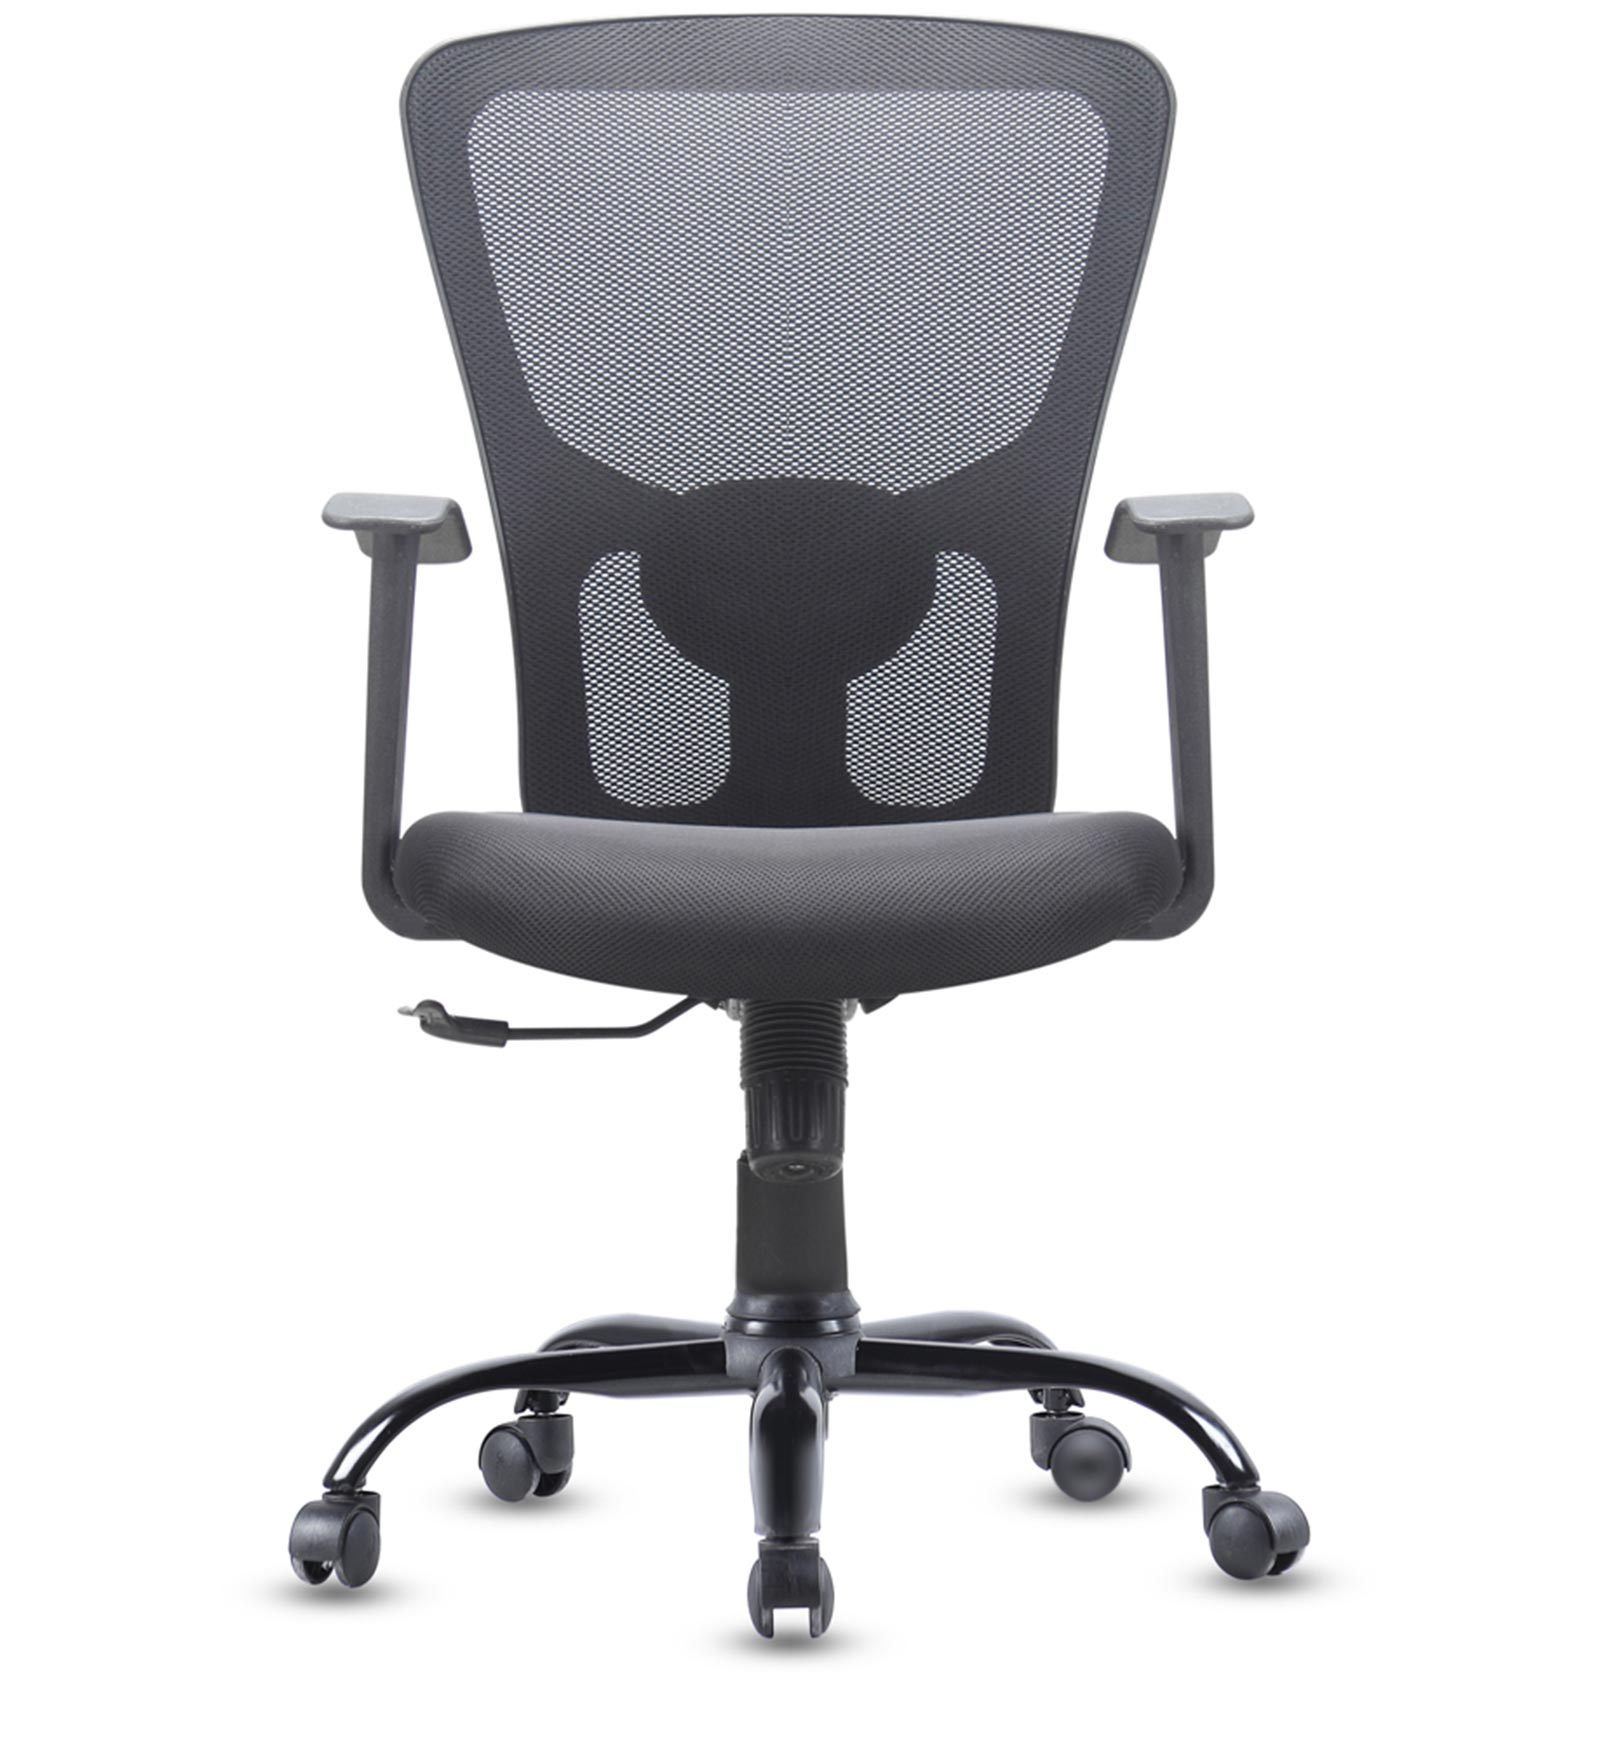Smart Medium back Ergonomic Chairs by VOF: (225, 26, 1361, 1636)
